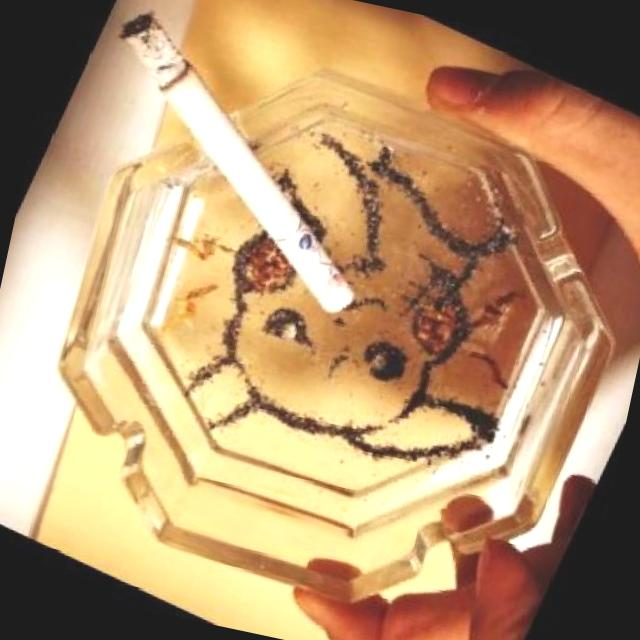smoke: (26, 0, 452, 335)
